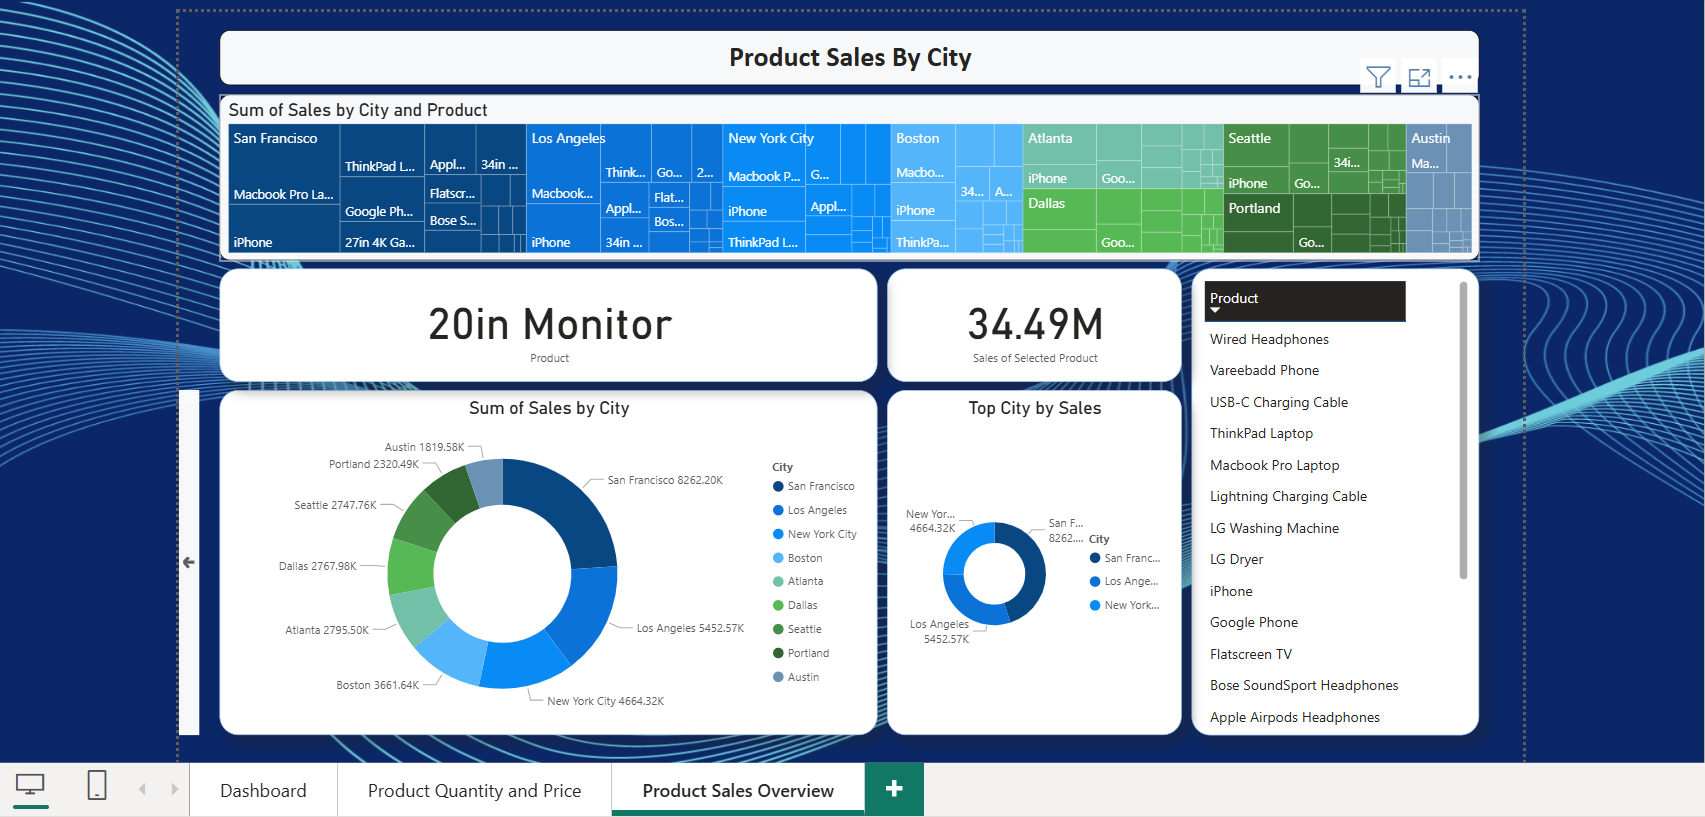

Layout of this report page (visuals, bound fields, positions):
{"tool":"powerbi","page":{"name":"Product Sales Overview","canvas":[1280,720],"ordinal":2},"visuals":[{"type":"tableEx","fields":{"Values":["Sales Data Analysis.Product"]},"box":[964.7,244.7,274,444.7],"z":0},{"type":"card","fields":{"Values":["Sum(Sales Data Analysis.Sales)"]},"box":[674.7,244.7,280.7,108],"z":1000},{"type":"donutChart","fields":{"Category":["Sales Data Analysis.City"],"Y":["Sum(Sales Data Analysis.Sales)"]},"box":[38.8,360,626.9,328.8],"z":2000},{"type":"card","fields":{"Values":["Min(Sales Data Analysis.Product)"]},"box":[38.5,244.6,626.9,107.7],"z":3000},{"type":"textbox","box":[38.7,16.7,1200,52.7],"z":4000},{"type":"treemap","fields":{"Group":["Sales Data Analysis.City"],"Values":["Sum(Sales Data Analysis.Sales)"],"Details":["Sales Data Analysis.Product"]},"box":[38.7,78.7,1200,158],"z":5000},{"type":"donutChart","title":"Top City by Sales","fields":{"Y":["Sum(Sales Data Analysis.Sales)"],"Category":["Sales Data Analysis.City"]},"box":[674.7,360,280.7,328.7],"z":6000},{"type":"actionButton","box":[0,360,19.3,328.7],"z":7000}]}

Visuals, with their boxes on the page's 1280x720 design canvas (x1, y1, x2, y2). These are canvas units, not pixel positions in the 1705x817 screenshot, which may show the page scaled, cropped or inside an application window:
tableEx - Sales Data Analysis.Product: bbox=(965, 245, 1239, 689)
card - Sum(Sales Data Analysis.Sales): bbox=(675, 245, 955, 353)
donutChart - Sales Data Analysis.City x Sum(Sales Data Analysis.Sales): bbox=(39, 360, 666, 689)
card - Min(Sales Data Analysis.Product): bbox=(38, 245, 665, 352)
textbox: bbox=(39, 17, 1239, 69)
treemap - Sales Data Analysis.City x Sum(Sales Data Analysis.Sales): bbox=(39, 79, 1239, 237)
"Top City by Sales" donutChart: bbox=(675, 360, 955, 689)
actionButton: bbox=(0, 360, 19, 689)
